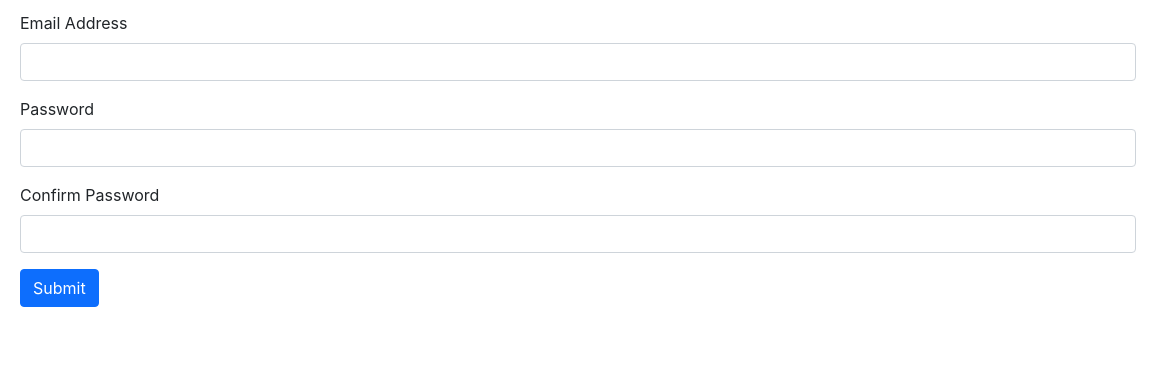
Signup Form › Error Form Handling › should show password error message on invalid password
This screenshot has width=1157, height=368.
Check: the text "the password you entered should contain 5 or more characters" is not shown
Type "francis.lagares@gmail.com" into the field.
click(578, 62); type("francis.lagares@gmail.com")  # box [20, 43, 1136, 81]
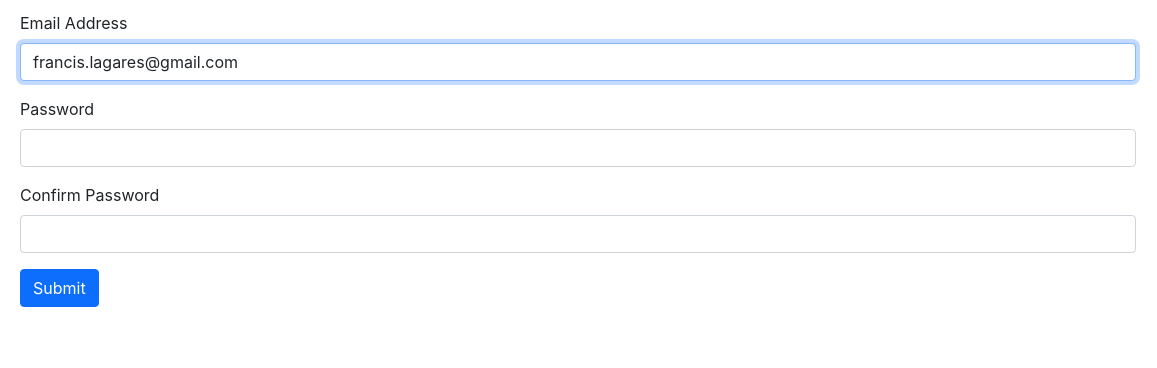
Type "pass" into the password field labelled "Password".
click(578, 148); type("pass")  # box [20, 129, 1136, 167]
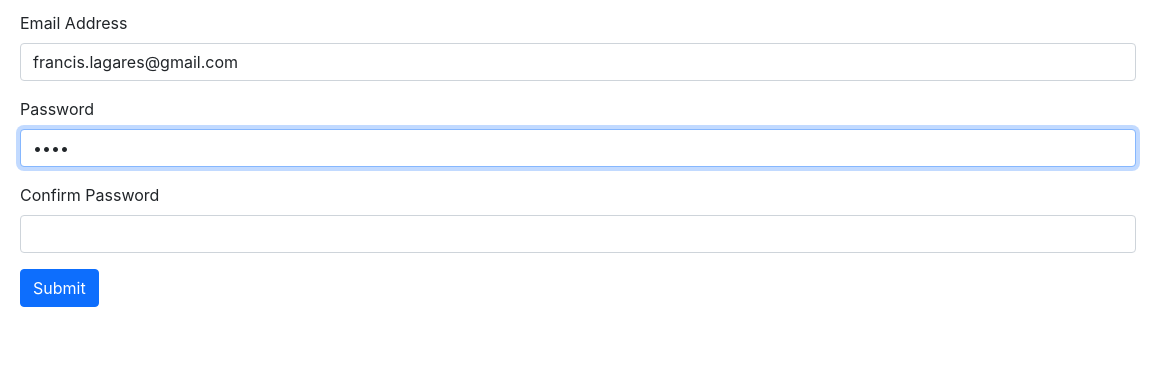
Click the button "Submit".
click(59, 288)  # box [20, 269, 99, 307]
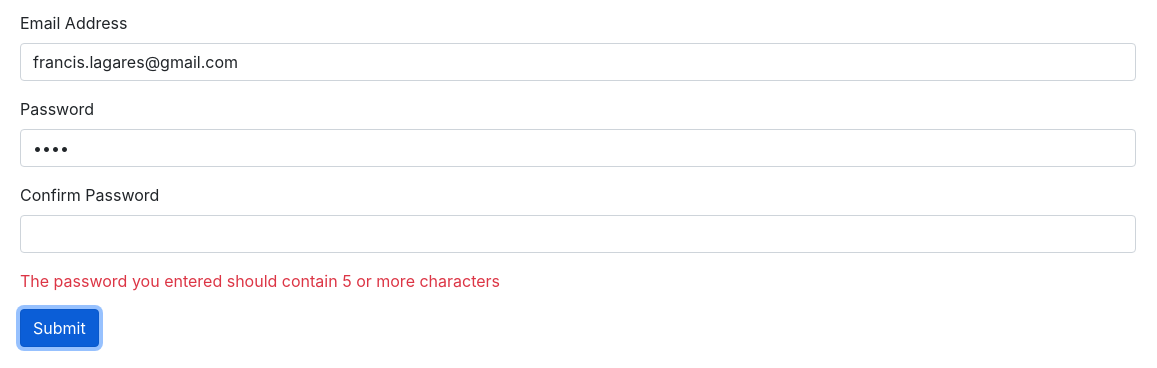
Check: the text "The password you entered should contain 5 or more characters" is shown, box [20, 271, 500, 291]
